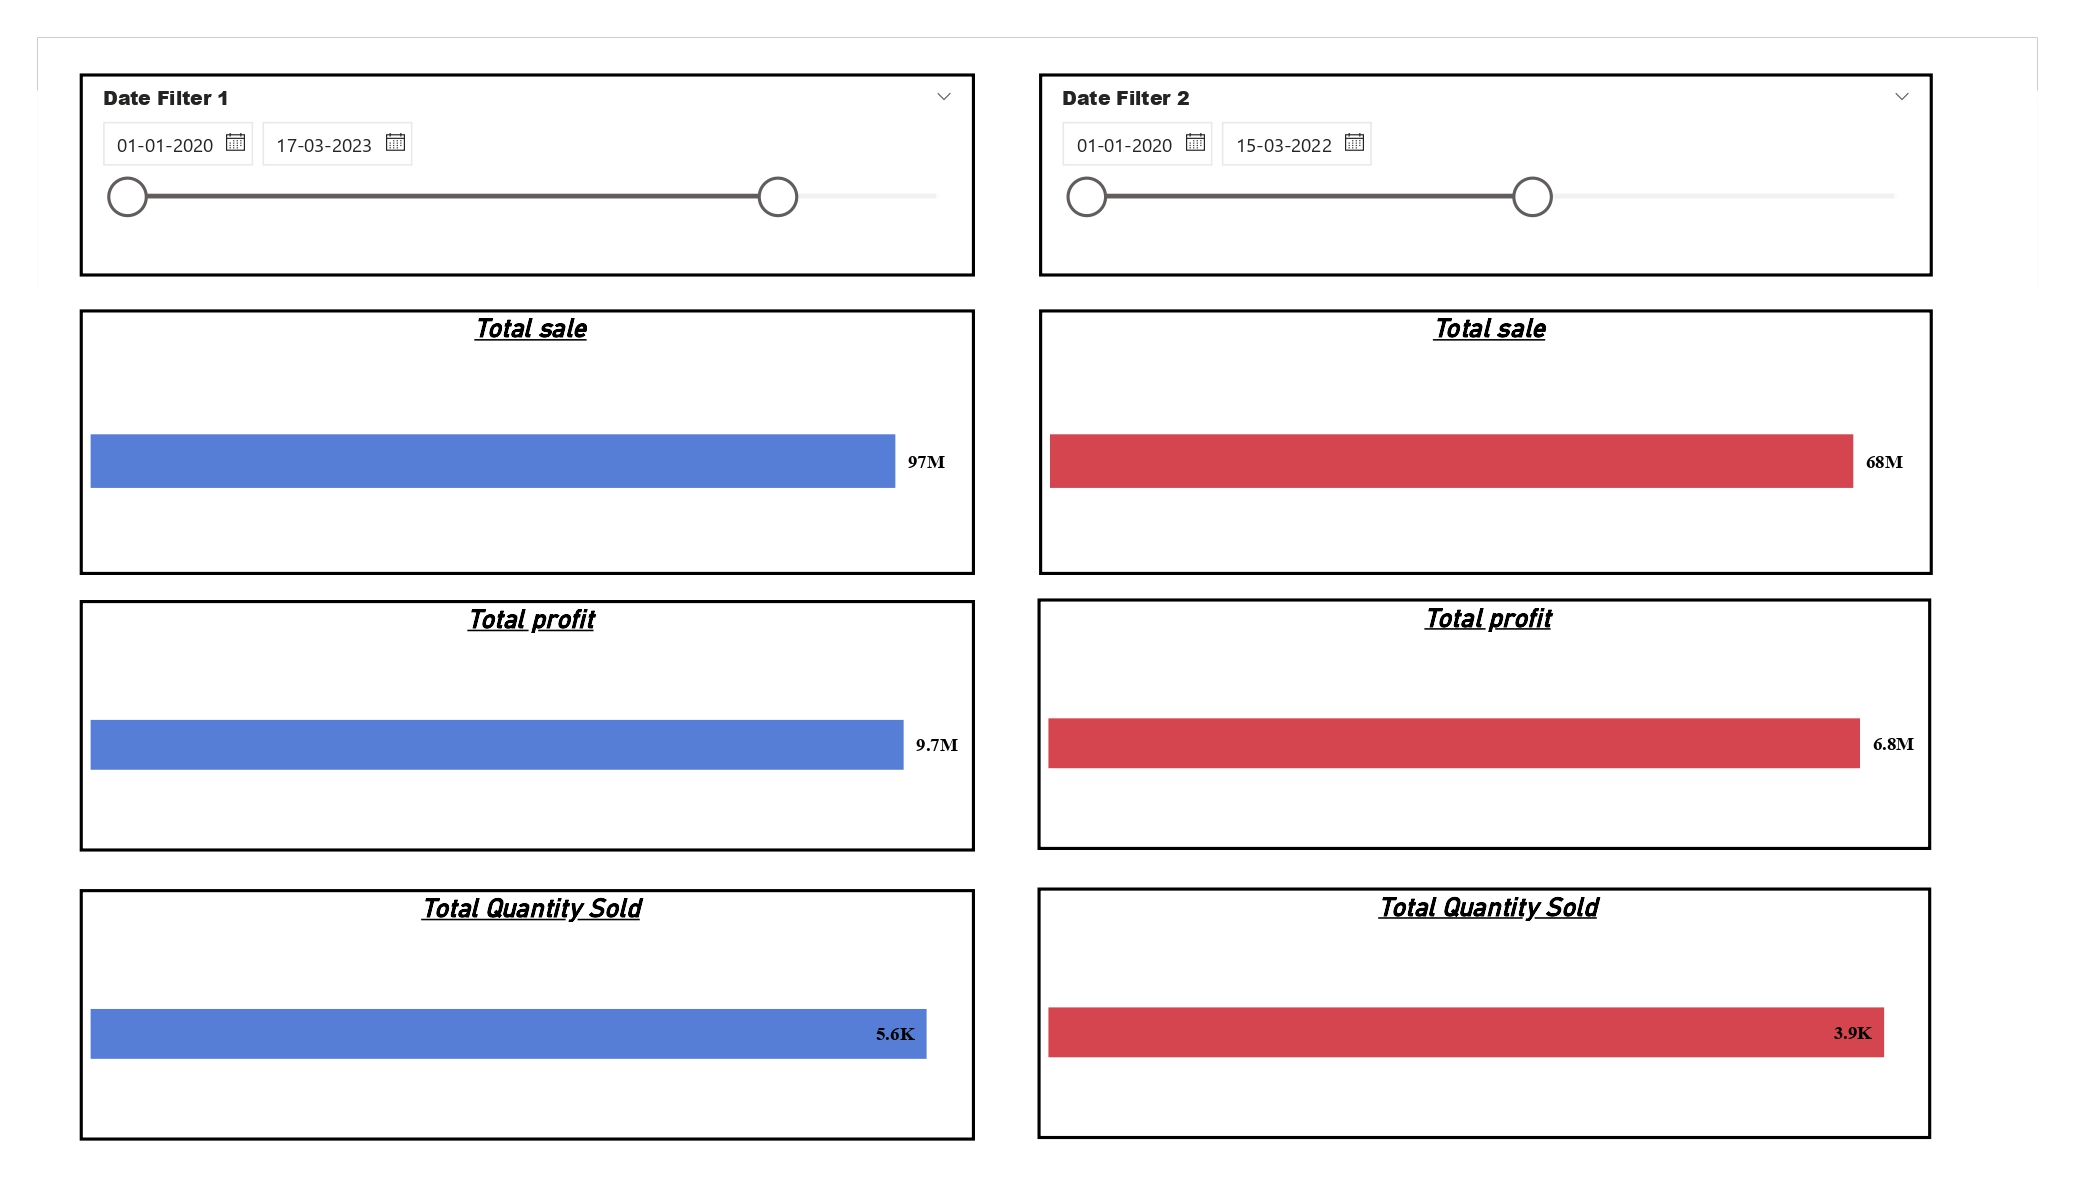

Layout of this report page (visuals, bound fields, positions):
{"tool":"powerbi","page":{"name":"Edit Interactions","canvas":[1280,720],"ordinal":4},"visuals":[{"type":"slicer","fields":{"Values":["Fact Table.Date (dd/mm/yyyy)"]},"box":[27.3,22.7,572.4,130.2],"z":0},{"type":"slicer","fields":{"Values":["Fact Table.Date (dd/mm/yyyy)"]},"box":[640.5,22.7,572.4,130.2],"z":1000},{"type":"barChart","fields":{"Y":["Sum(Fact Table. Net Sales)"]},"box":[27.3,174.1,572.4,169.6],"z":2000},{"type":"barChart","fields":{"Y":["Sum(Fact Table.profit)"]},"box":[27.3,360.4,572.4,160.5],"z":3000},{"type":"barChart","fields":{"Y":["Sum(Fact Table.Units Sold)"]},"box":[27.3,545.1,572.4,160.5],"z":4000},{"type":"barChart","fields":{"Y":["Sum(Fact Table. Net Sales)"]},"box":[640.5,174.1,572.4,169.6],"z":5000},{"type":"barChart","fields":{"Y":["Sum(Fact Table.profit)"]},"box":[639.9,359.3,572.4,160.5],"z":6000},{"type":"barChart","fields":{"Y":["Sum(Fact Table.Units Sold)"]},"box":[639.9,544,572.4,160.5],"z":7000}]}

Visuals, with their boxes on the page's 1280x720 design canvas (x1, y1, x2, y2). These are canvas units, not pixel positions in the 2075x1200 screenshot, which may show the page scaled, cropped or inside an application window:
slicer - Fact Table.Date (dd/mm/yyyy): {"left": 27, "top": 23, "right": 600, "bottom": 153}
slicer - Fact Table.Date (dd/mm/yyyy): {"left": 640, "top": 23, "right": 1213, "bottom": 153}
barChart - Sum(Fact Table. Net Sales): {"left": 27, "top": 174, "right": 600, "bottom": 344}
barChart - Sum(Fact Table.profit): {"left": 27, "top": 360, "right": 600, "bottom": 521}
barChart - Sum(Fact Table.Units Sold): {"left": 27, "top": 545, "right": 600, "bottom": 706}
barChart - Sum(Fact Table. Net Sales): {"left": 640, "top": 174, "right": 1213, "bottom": 344}
barChart - Sum(Fact Table.profit): {"left": 640, "top": 359, "right": 1212, "bottom": 520}
barChart - Sum(Fact Table.Units Sold): {"left": 640, "top": 544, "right": 1212, "bottom": 704}
